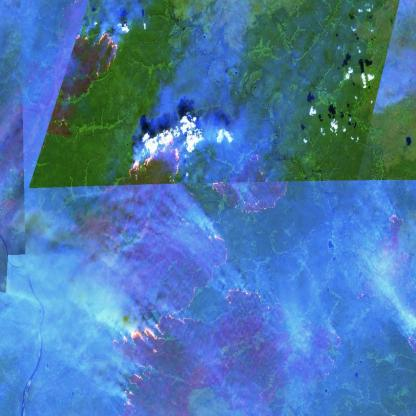fire: (102, 306, 206, 416), (210, 152, 296, 216), (127, 128, 183, 188), (71, 25, 122, 80), (384, 208, 406, 238)
